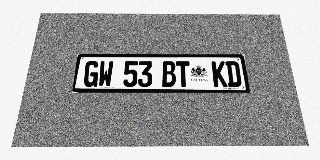3: (138, 61, 152, 87)
5: (123, 61, 138, 87)
B: (162, 61, 176, 87)
D: (225, 61, 242, 87)
G: (83, 61, 100, 87)
K: (211, 61, 228, 87)
T: (176, 61, 191, 87)
W: (97, 61, 114, 87)
